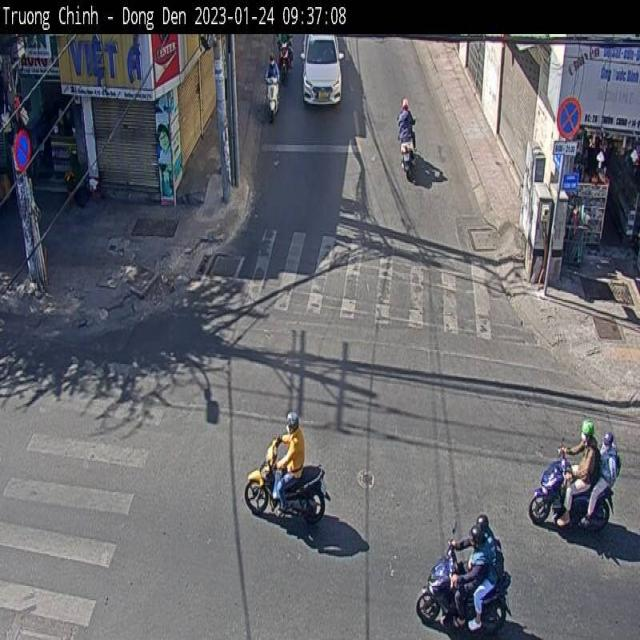with_helmet: (581, 410, 597, 456), (471, 501, 493, 534), (470, 513, 485, 557), (603, 417, 618, 460), (286, 409, 304, 442), (398, 91, 413, 113), (270, 47, 280, 67)
